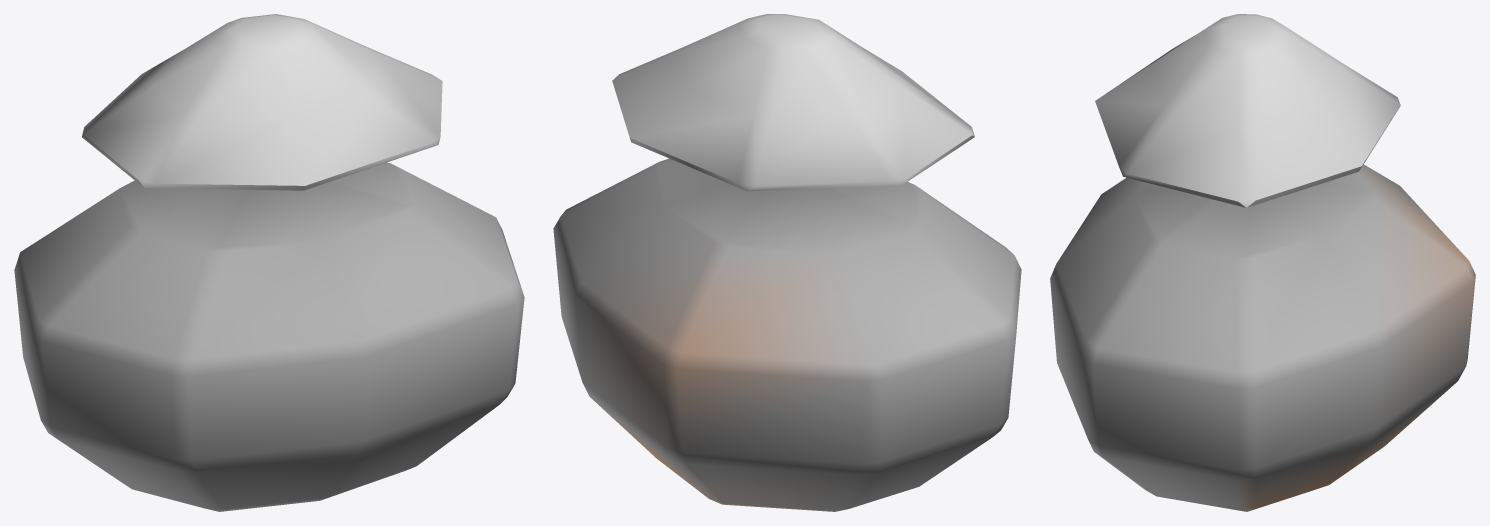
File: boulder_lichen_b.glb
The picture shows the model from 3 angles, left to right: view 1: azimuth 30°, elevation 25°; view 2: azimuth 150°, elevation 25°; view 3: azimuth 270°, elevation 25°; orthographic projection. The views are drawn at different scales.
Visible parts, largest first — view 1: BoulderLichen_B; view 2: BoulderLichen_B; view 3: BoulderLichen_B.
Part boxes in pixels (<box>): BoulderLichen_B: <box>14,14,524,511</box>; BoulderLichen_B: <box>553,14,1021,511</box>; BoulderLichen_B: <box>1050,14,1475,511</box>.
Size of the model in its own units: 2.21 by 2.1 by 1.82.
